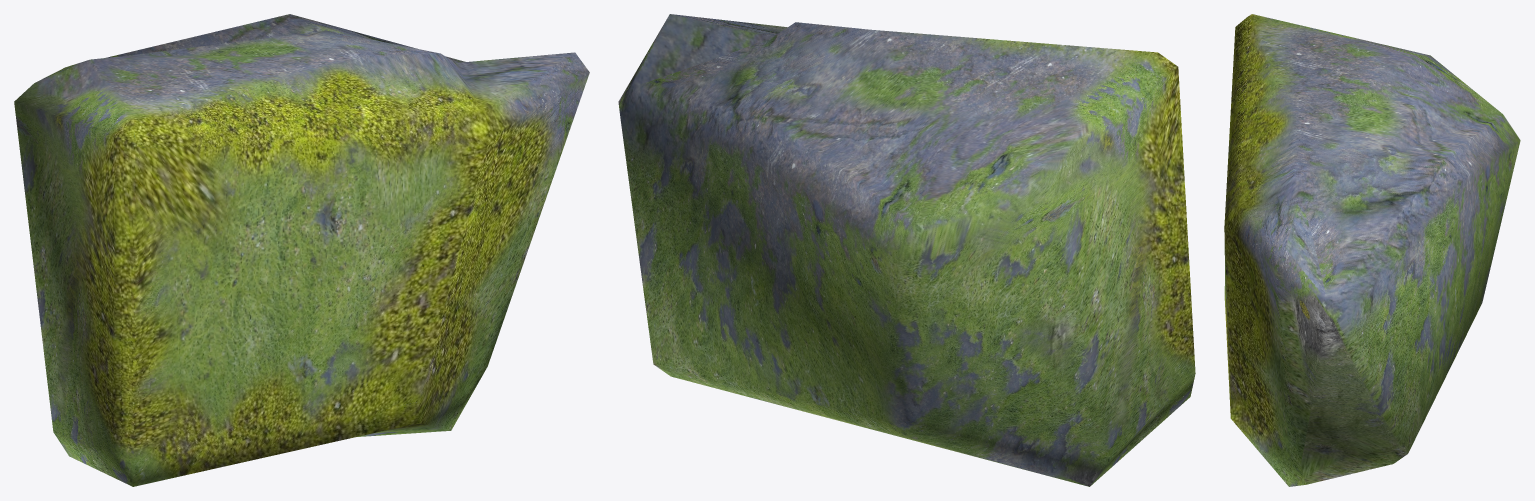
File: steine mit moos2.fbx
The picture shows the model from 3 angles, left to right: view 1: azimuth 30°, elevation 25°; view 2: azimuth 150°, elevation 25°; view 3: azimuth 270°, elevation 25°; orthographic projection. The views are drawn at different scales.
Parts seen in each view (by area): view 1: Cube_001; view 2: Cube_001; view 3: Cube_001.
Boxes of the visible parts, box(x1,y1,x2,y2) form: Cube_001: box(14, 14, 589, 486); Cube_001: box(618, 14, 1195, 486); Cube_001: box(1224, 14, 1520, 486).
Size of the model in its own units: 0.6772 by 0.5131 by 0.4096.
Materials: 1 (1 with a texture image).
